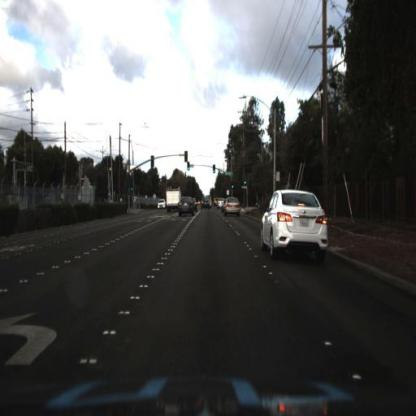car: (261, 183, 334, 269), (177, 197, 197, 221), (224, 199, 241, 217), (200, 197, 214, 213), (157, 199, 168, 213)
trafficLight: (130, 182, 135, 195)
trafficLight-Green: (210, 162, 220, 178), (185, 161, 192, 177), (242, 178, 249, 190), (229, 181, 235, 193), (245, 175, 249, 190)
truck: (165, 185, 183, 216), (166, 186, 183, 210)
